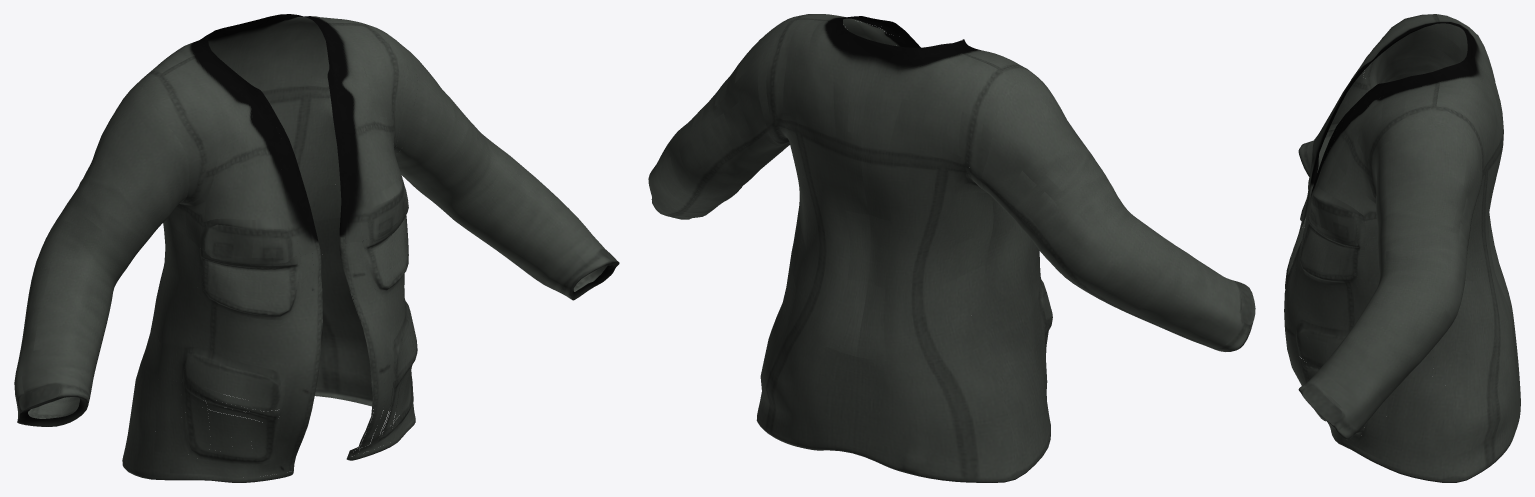
File: ONFIT_Outer_Female_v4.glb
3 views of the same model, side by side, from view 1: azimuth 30°, elevation 25°; view 2: azimuth 150°, elevation 25°; view 3: azimuth 270°, elevation 25° (orthographic). The views are drawn at different scales.
Parts seen in each view (by area): view 1: ONFIT_Outer; view 2: ONFIT_Outer; view 3: ONFIT_Outer.
Boxes of the visible parts, <box> form: ONFIT_Outer: <box>14,14,619,482</box>; ONFIT_Outer: <box>648,14,1255,482</box>; ONFIT_Outer: <box>1284,14,1520,482</box>.
Bounding box in the file's own units: 0.9383 × 0.6201 × 0.3494.
1 material, 1 textured.
